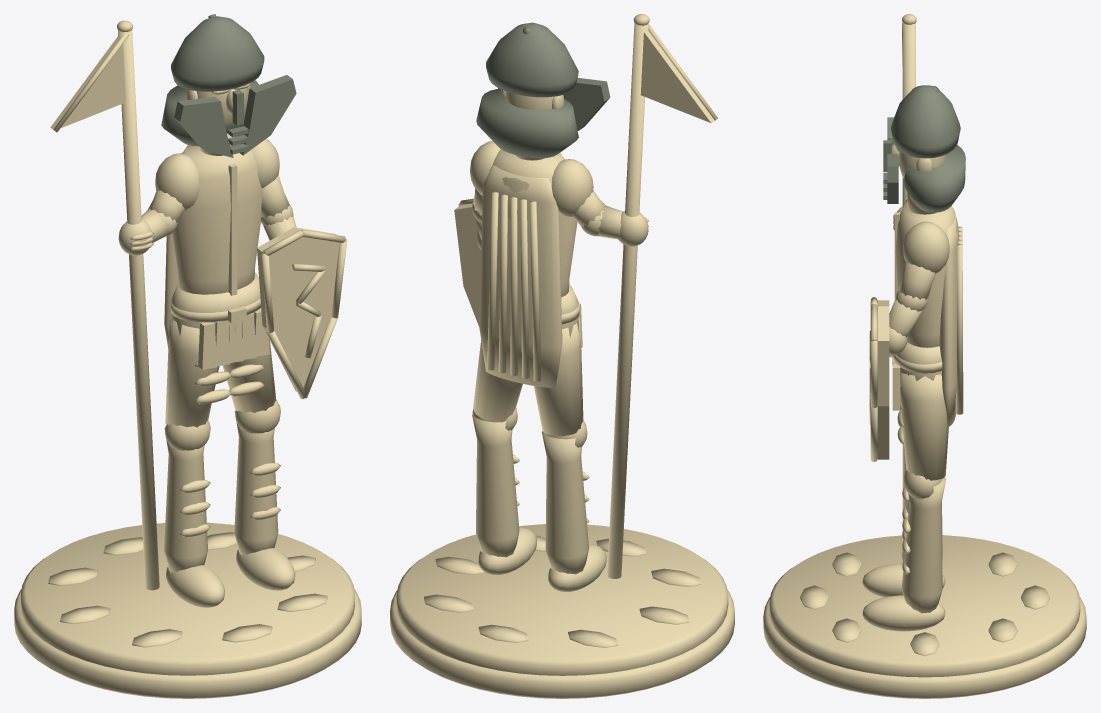
File: knight-beige-level-1-helmet.fbx
3 renders of one model, left to right at view 1: azimuth 30°, elevation 25°; view 2: azimuth 150°, elevation 25°; view 3: azimuth 270°, elevation 25°, orthographic. The views are drawn at different scales.
Parts seen in each view (by area): view 1: Knight_Level_1_Helmet_Sculpt; view 2: Knight_Level_1_Helmet_Sculpt; view 3: Knight_Level_1_Helmet_Sculpt.
Boxes of the visible parts, box(x1,y1,x2,y2) form: Knight_Level_1_Helmet_Sculpt: box(14, 14, 361, 698); Knight_Level_1_Helmet_Sculpt: box(390, 14, 734, 698); Knight_Level_1_Helmet_Sculpt: box(763, 14, 1086, 698).
Size of the model in its own units: 0.012 by 0.024 by 0.012.
